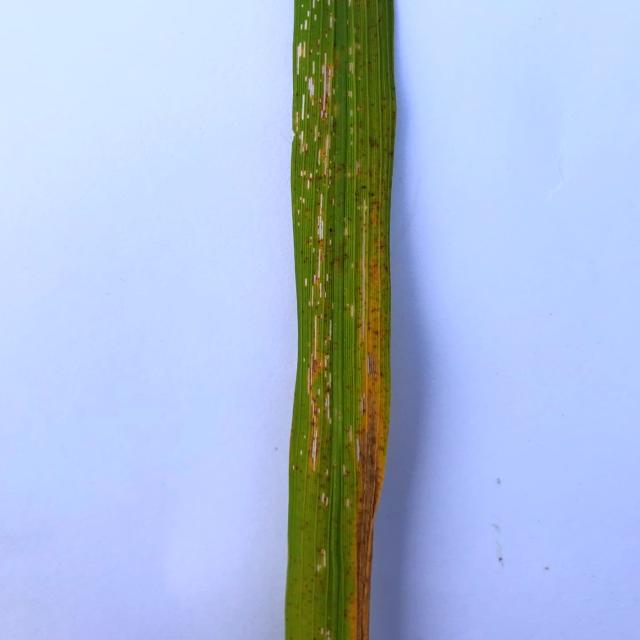tungro: (344, 201, 390, 640)
